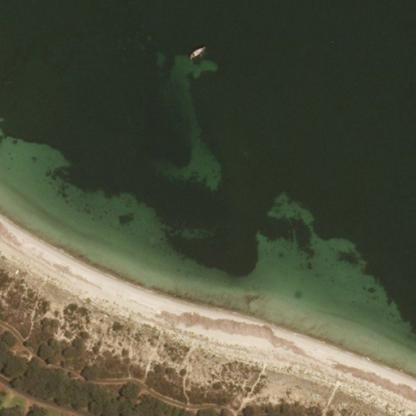ship: (23, 46, 38, 59)
